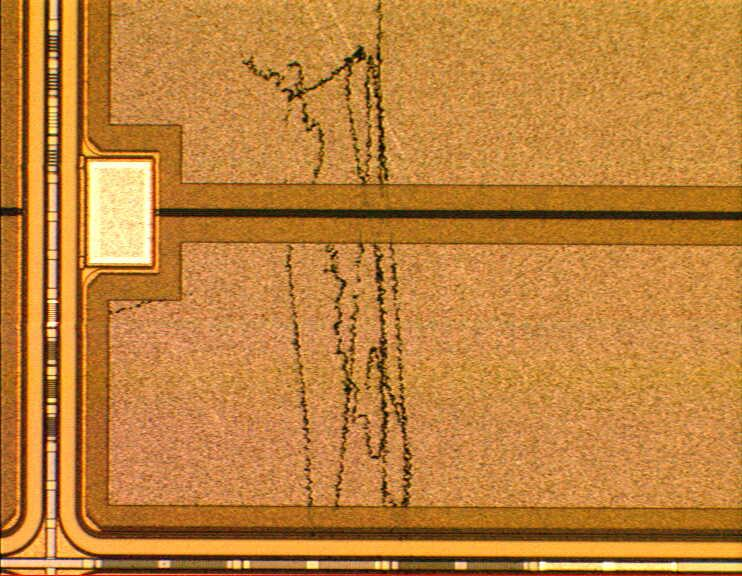SCRATCH: (76, 1, 420, 544)
